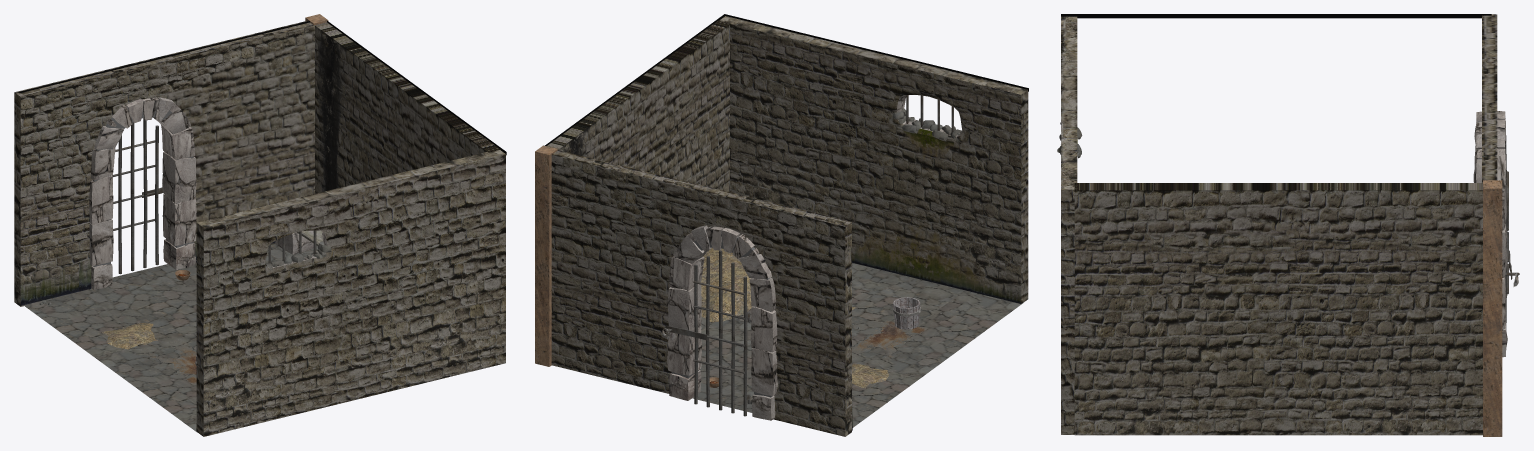
The picture shows the model from 3 angles, left to right: view 1: azimuth 30°, elevation 25°; view 2: azimuth 150°, elevation 25°; view 3: azimuth 270°, elevation 25°; orthographic projection. The views are drawn at different scales.
Visible parts, largest first — view 1: wall_3, wall_1, wall_2, floor1, arc, pPlane14, metal_door, pPlane7, pPlane10, pCube23, pPlane16, wind_stones (+1 smaller); view 2: wall_3, wall_1, wall_2, floor1, arc, pCube70, metal_door, pPlane12, pCube21, pPlane13, pPlane10, pPlane16 (+5 smaller); view 3: wall_2, wall_3, pCube70, wall_1, pPlane10, arc, metal_door.
Boxes of the visible parts, x1,y1,x2,y2 form: wall_3: (196,150,505,436); wall_1: (14,20,314,306); wall_2: (315,22,500,193); floor1: (24,244,318,432); arc: (89,97,196,289); pPlane14: (315,26,353,191); metal_door: (112,119,162,274); pPlane7: (20,254,91,305); pPlane10: (19,21,506,155); pCube23: (102,323,157,349); pPlane16: (142,341,196,383); wind_stones: (265,241,331,269); wall_3: (719,16,1028,303); wall_1: (551,150,851,436); wall_2: (547,20,730,191); floor1: (692,263,1022,427); arc: (667,225,777,420); pCube70: (535,145,557,366); metal_door: (665,250,750,416); pPlane12: (852,221,987,289); pCube21: (700,247,751,322); pPlane13: (852,246,1021,303); pPlane10: (545,14,1028,145); pPlane16: (852,321,926,363); wall_2: (1074,183,1482,435); wall_3: (1061,16,1077,434); pCube70: (1483,180,1502,436); wall_1: (1482,14,1497,183); pPlane10: (1061,14,1491,18); arc: (1473,111,1507,357); metal_door: (1505,143,1512,328).
Size of the model in its own units: 14.44 by 9.64 by 16.
19 materials, 17 textured.
